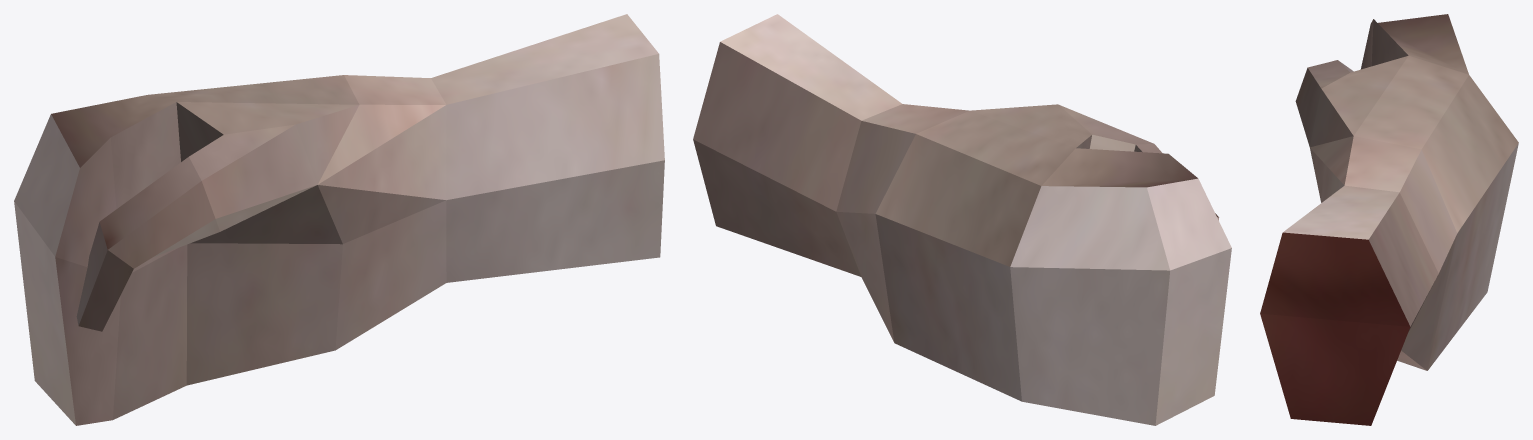
The model's file is Hand.fbx.
The picture shows the model from 3 angles, left to right: view 1: azimuth 30°, elevation 25°; view 2: azimuth 150°, elevation 25°; view 3: azimuth 270°, elevation 25°; orthographic projection. The views are drawn at different scales.
Parts seen in each view (by area): view 1: Plane.001; view 2: Plane.001; view 3: Plane.001.
Part boxes in pixels (<box>): Plane.001: <box>14,14,664,425</box>; Plane.001: <box>693,14,1231,425</box>; Plane.001: <box>1260,14,1518,425</box>.
Size of the model in its own units: 82.62 by 39.34 by 35.93.
